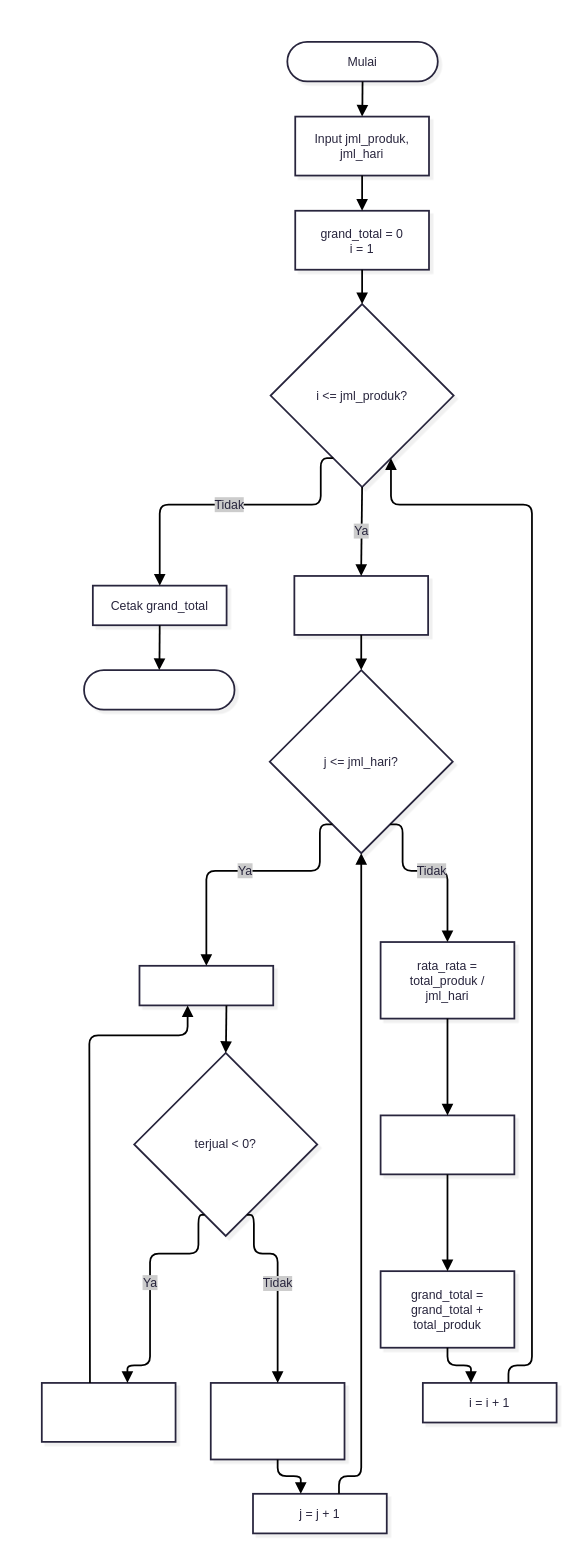
Some shapes in this 576 by 1552 pixel diagram are drawn without their labels. The shapes that lost their labels are listed below. From the top down, each one's centre as x and y in pixels, then its label:
At [362,607]: "total_produk = 0 j = 1".
At [160,691]: "Selesai".
At [207,986]: "Input terjual".
At [448,1146]: "Cetak total_produk & rata_rata".
At [110,1414]: "Cetak 'Input Tidak Boleh Negatif!'".
At [278,1422]: "total_produk = total_produk + terjual".
